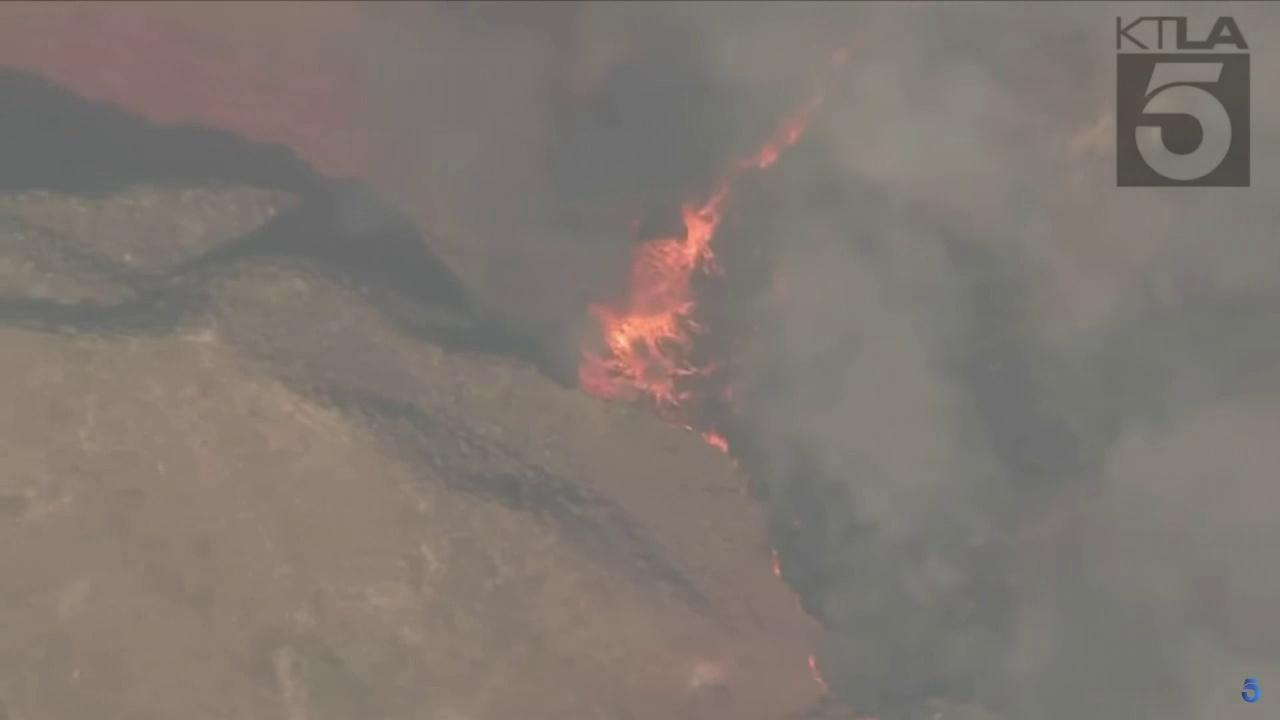fire: (573, 90, 825, 458), (807, 655, 828, 685), (772, 551, 783, 578)
smoke: (338, 0, 1280, 720)
